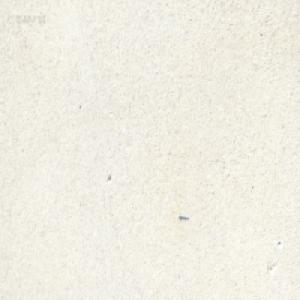Nail: (178, 213, 188, 221)
